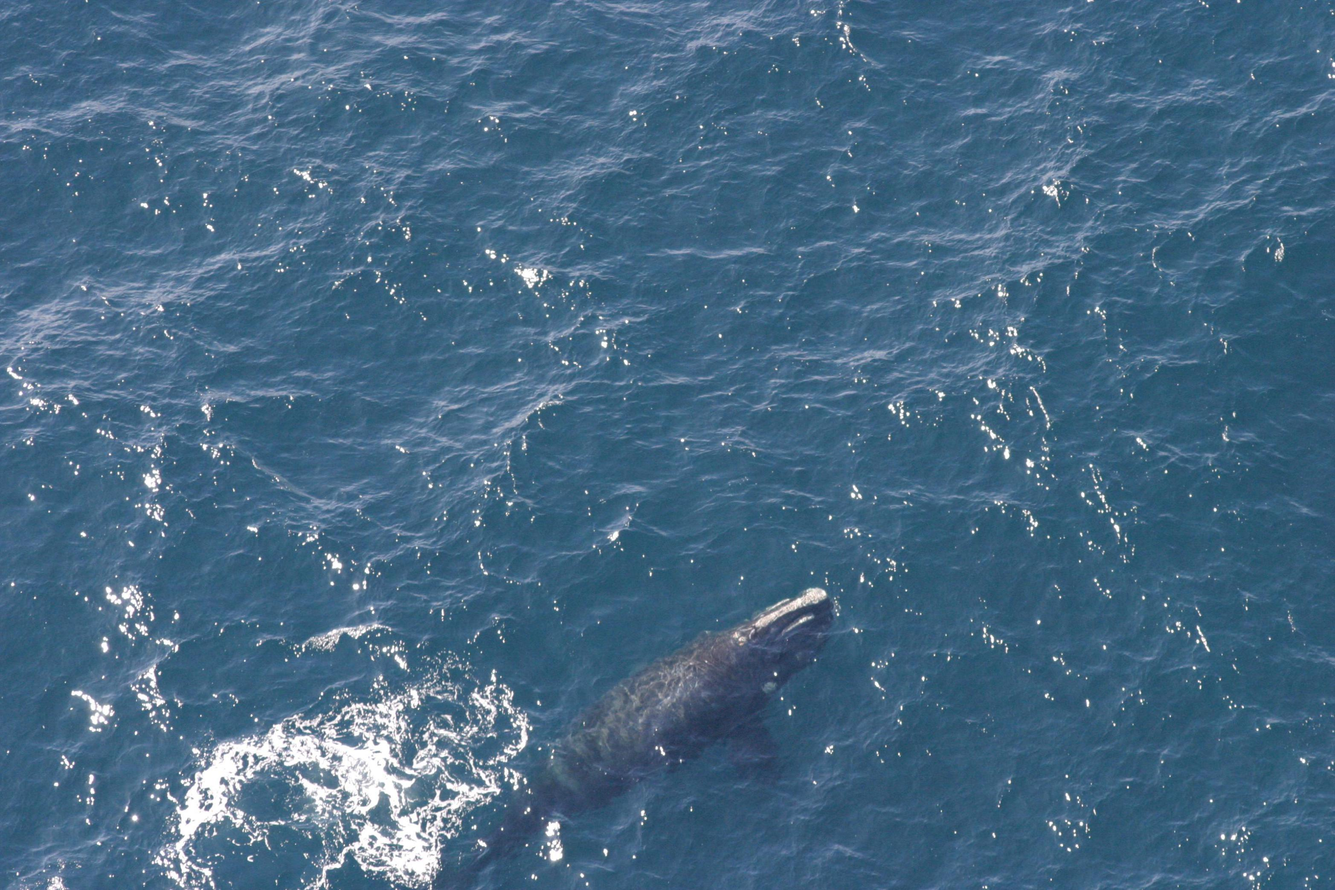whale: (416, 582, 839, 890)
